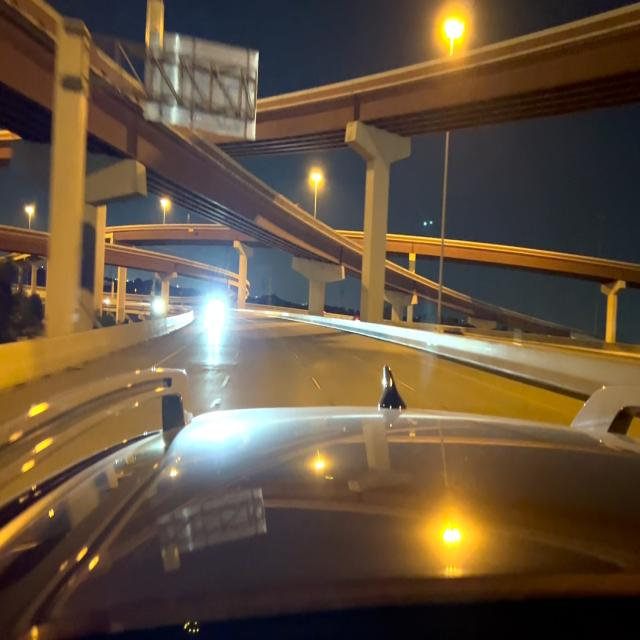back-of-sign: (147, 35, 258, 139)
